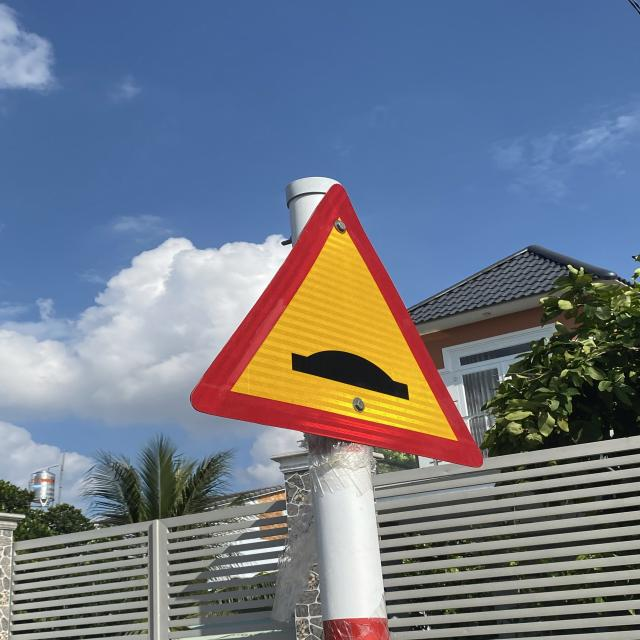Duong_Cong_Ben_Phai: (188, 182, 486, 471)
